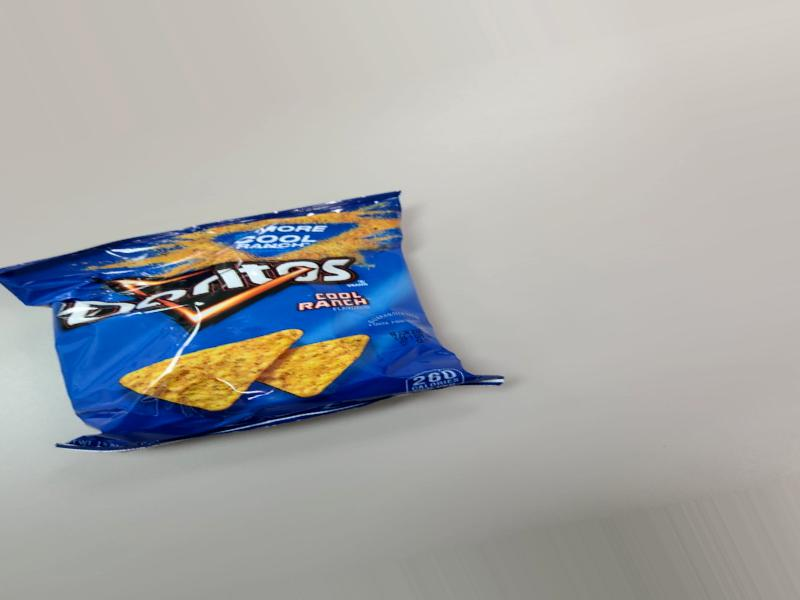doritos: (22, 212, 445, 448)
